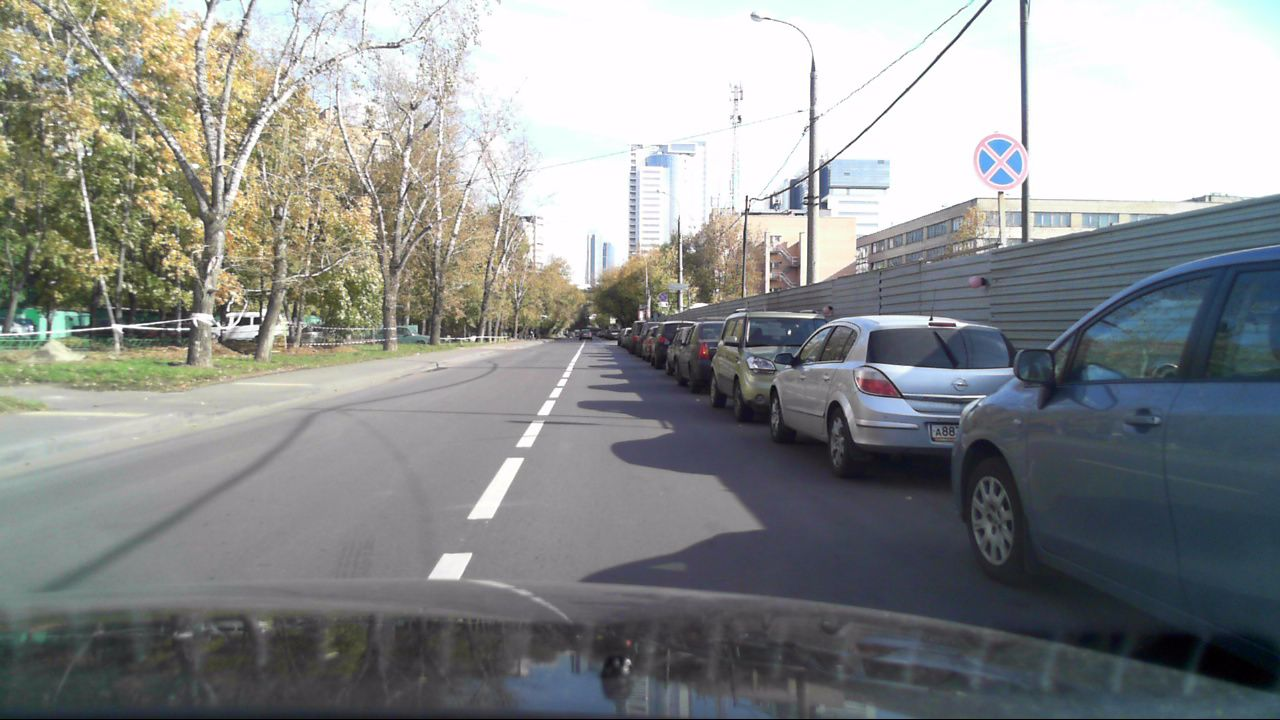No Parking: (971, 133, 1033, 193)
